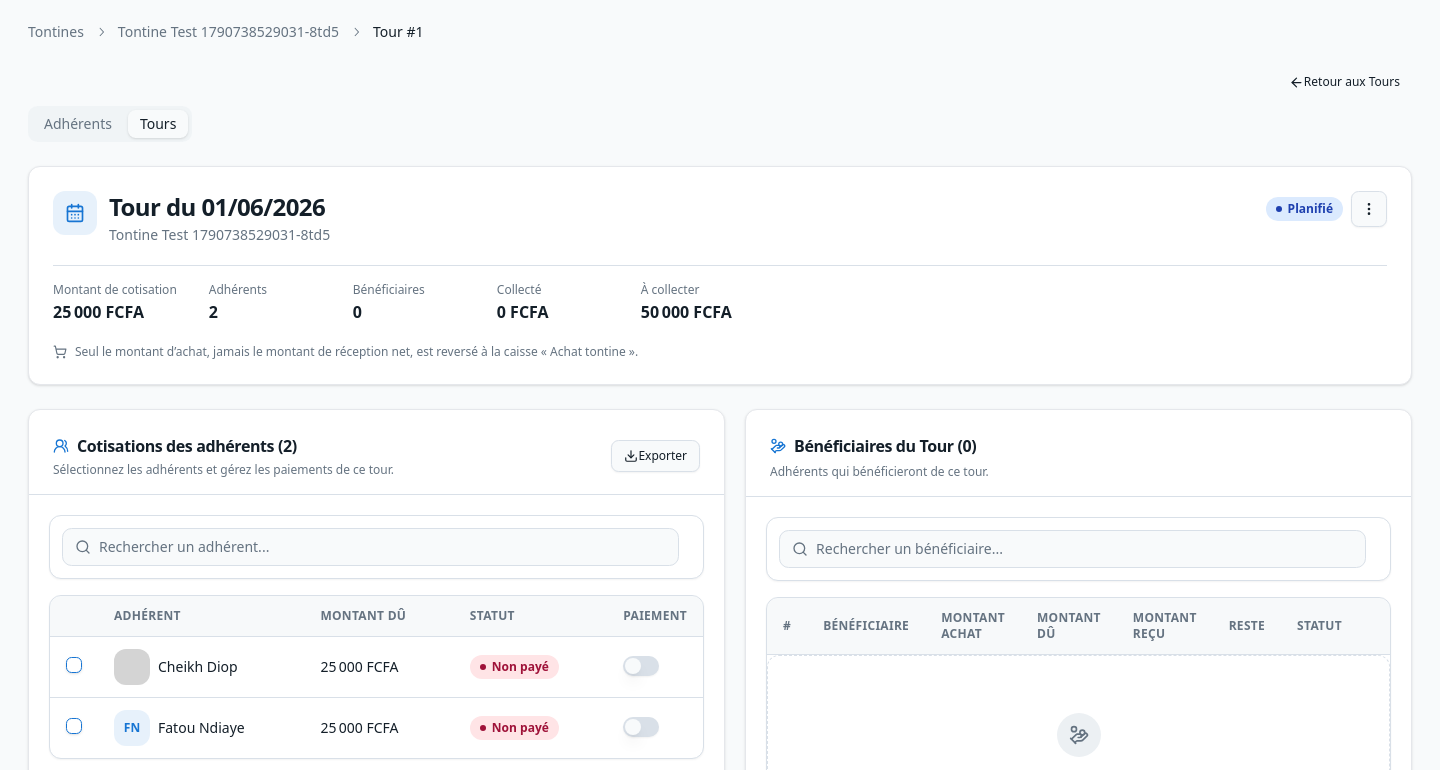
Test: Espace de travail du Tour — Bénéficiaires (Ajouter →/← Enlever) › sélectionner plusieurs adhérents ajoute plusieurs bénéficiaires en une seule action
Expected: the text "Fatou Ndiaye" is shown, [158,718,245,737]
Click the checkbox named "Sélectionner" next to "FN" at (74, 726), box [66,718,82,734]
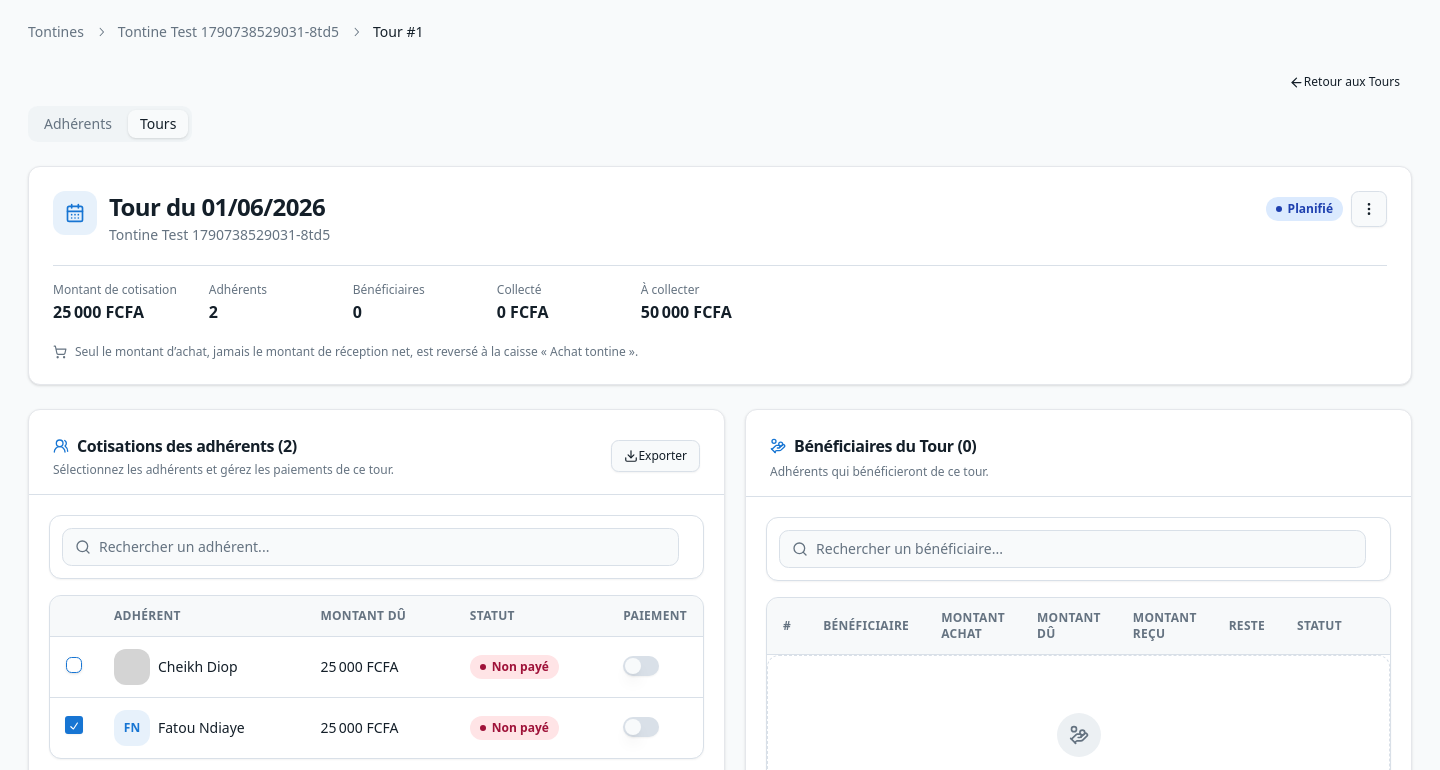
Click the checkbox named "Sélectionner" next to "Cheikh Diop" at (74, 665), box [66,657,82,673]
(page scrolled)
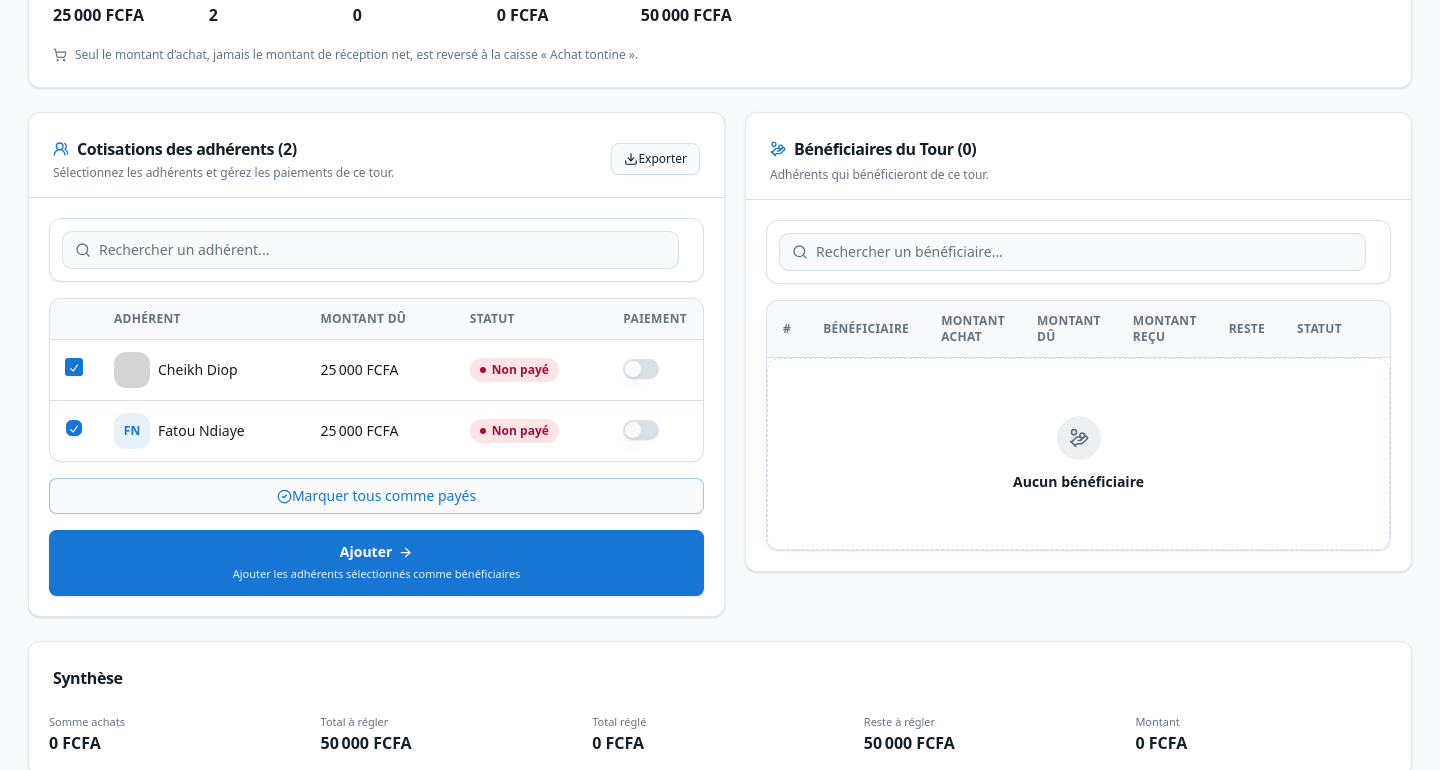
Click the button "Ajouter" at (377, 563), box [49,530,704,596]
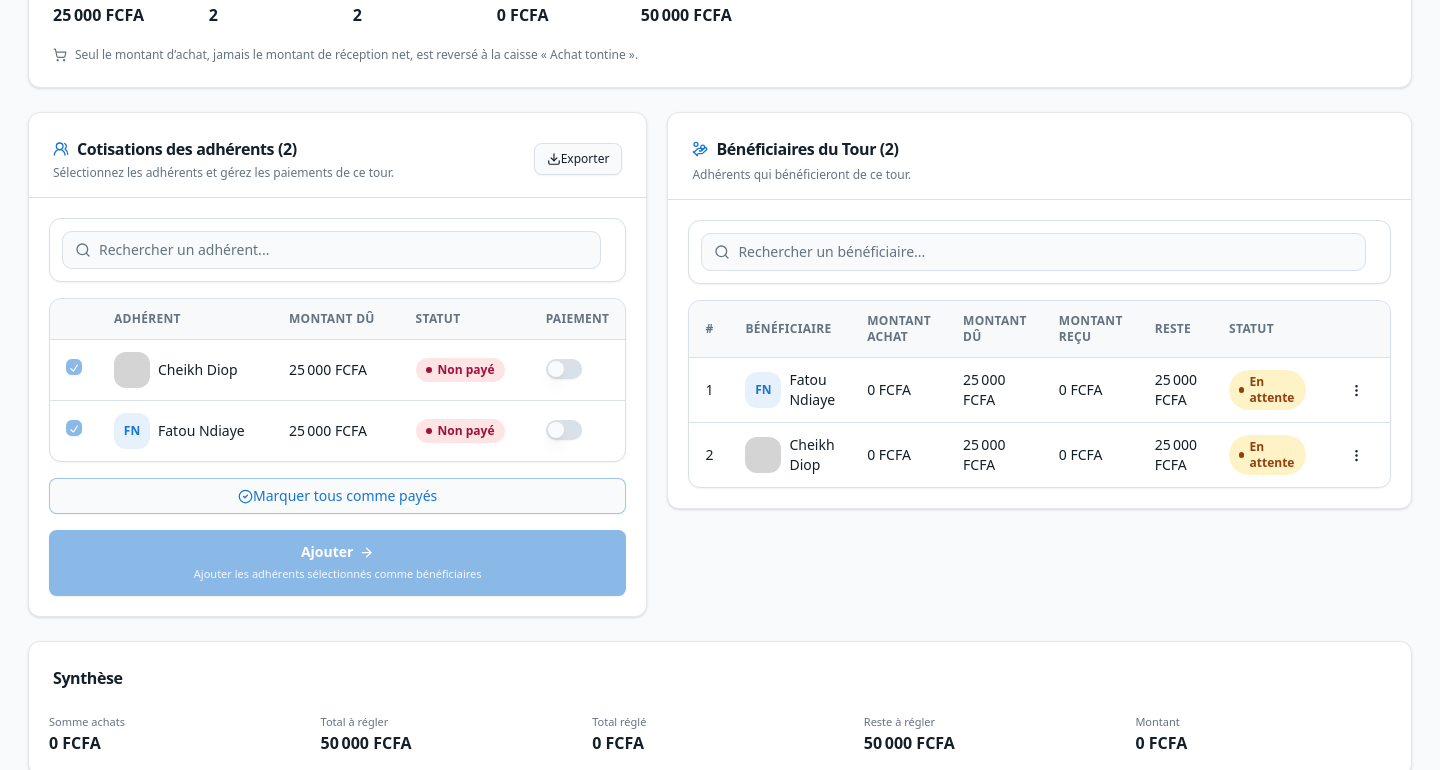
Result: the text "Bénéficiaires du Tour (2)" is shown at [692,138,899,160]
